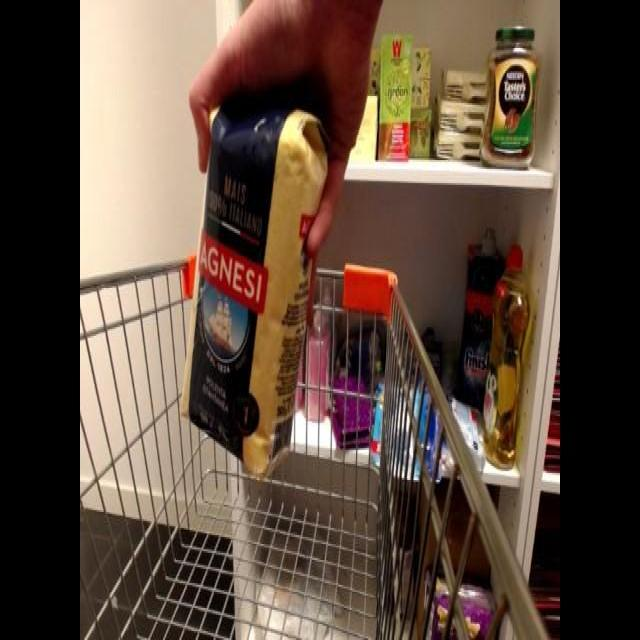Agnesi Polenta: (174, 102, 334, 481)
